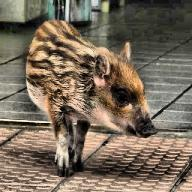boar: (25, 18, 158, 177)
